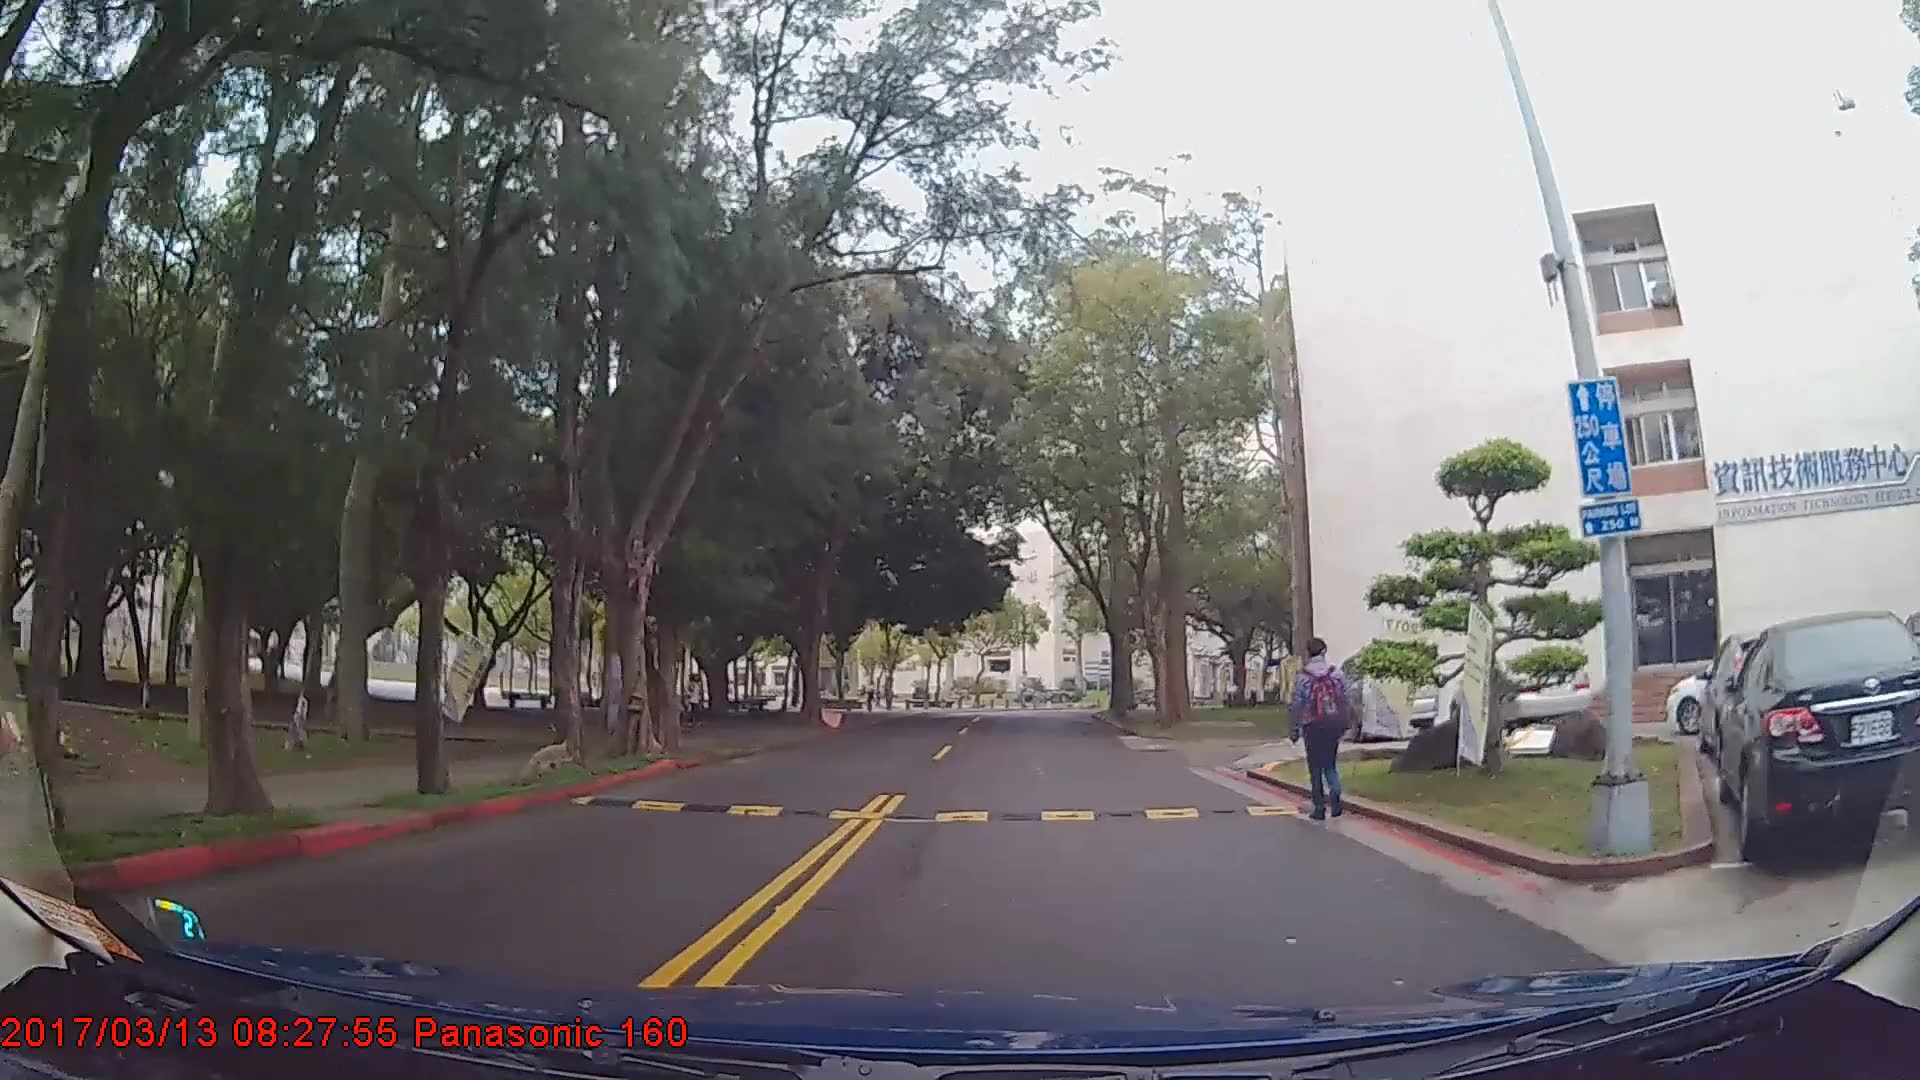pedestrian: (1289, 637, 1366, 828), (684, 670, 707, 733)
vehicle: (1714, 610, 1920, 867)
